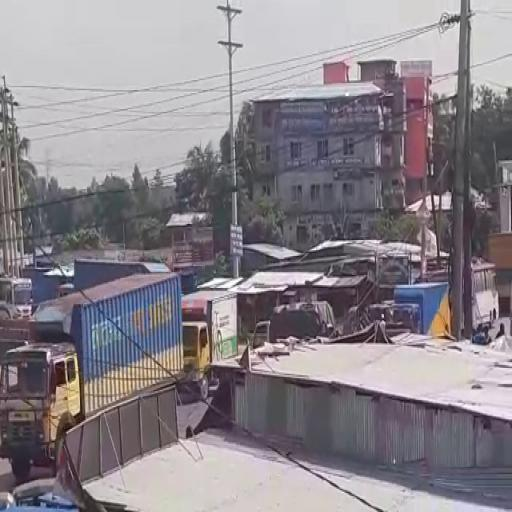bus: (469, 259, 499, 331), (3, 276, 36, 325)
pickup: (179, 289, 241, 405), (384, 279, 452, 343)
truck: (4, 270, 188, 459)
